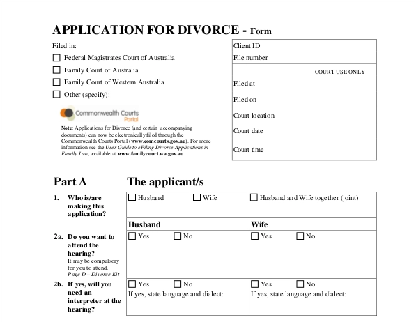checkbox: (53, 53, 61, 62), (52, 65, 60, 74), (52, 77, 60, 86), (52, 89, 60, 98), (192, 192, 200, 201), (249, 192, 257, 201), (250, 231, 258, 240), (295, 231, 303, 240), (295, 279, 303, 288), (250, 279, 258, 288), (173, 231, 181, 240), (128, 192, 135, 201), (174, 279, 181, 288), (128, 279, 135, 288), (128, 231, 135, 240)
